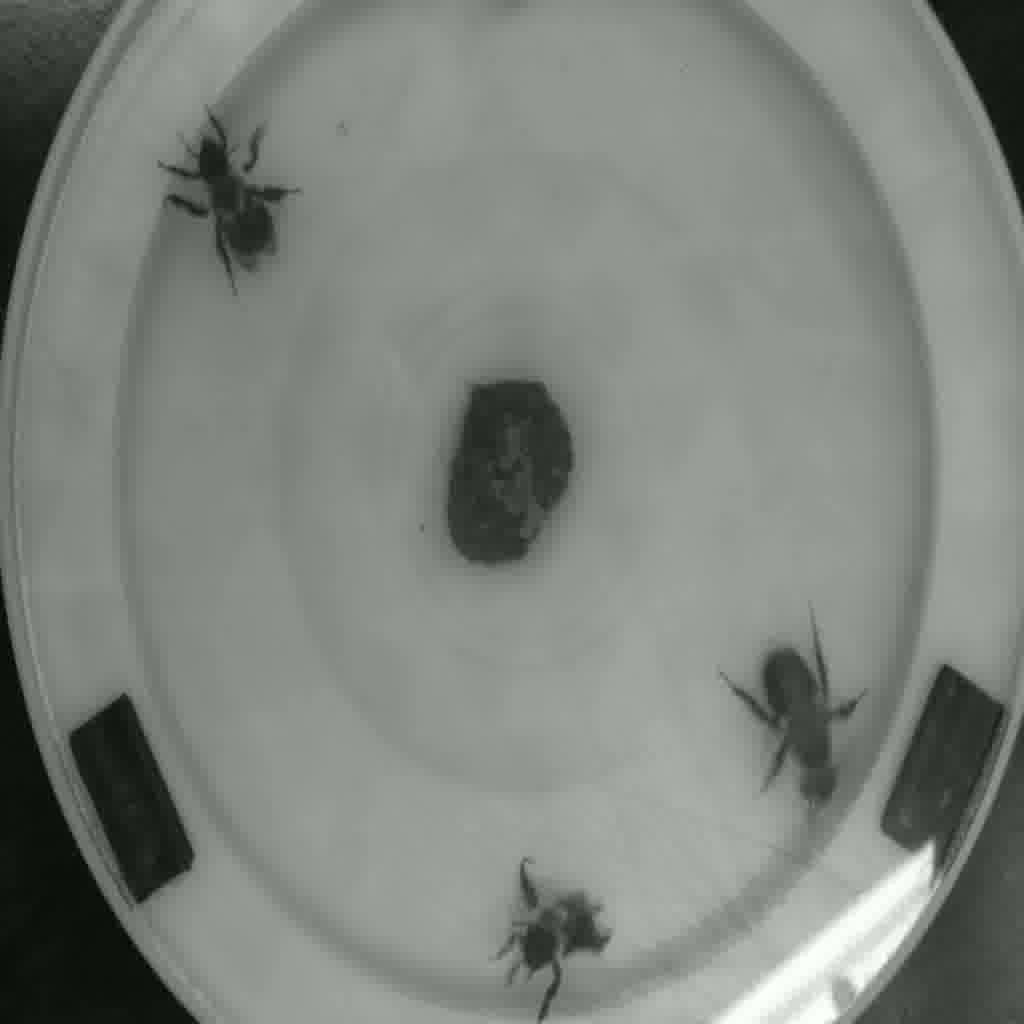bee: (725, 637, 862, 805), (167, 133, 296, 288), (490, 867, 619, 1003)
